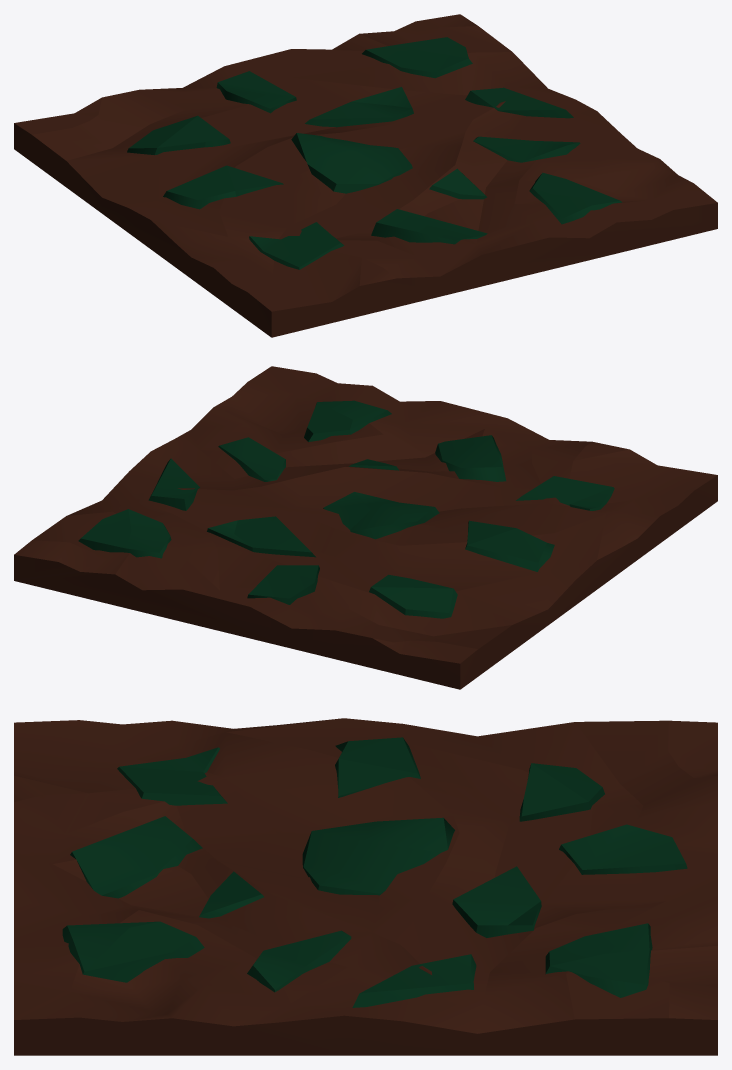
Rendered from Ground_Base_C.fbx.
3 renders of one model, top to bottom at view 1: azimuth 30°, elevation 25°; view 2: azimuth 150°, elevation 25°; view 3: azimuth 270°, elevation 25°, orthographic. The views are drawn at different scales.
Parts seen in each view (by area): view 1: Ground_Base_C; view 2: Ground_Base_C; view 3: Ground_Base_C.
Part boxes in pixels (x1=…): Ground_Base_C: x1=14, y1=14, x2=717, y2=337; Ground_Base_C: x1=14, y1=366, x2=717, y2=689; Ground_Base_C: x1=14, y1=718, x2=717, y2=1055.
Bounding box in the file's own units: 147 × 14.26 × 147.
